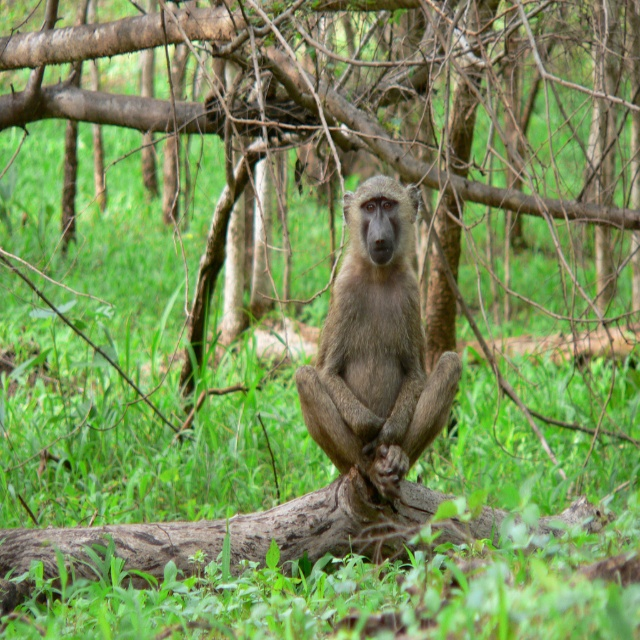Monkey: (275, 165, 462, 523)
